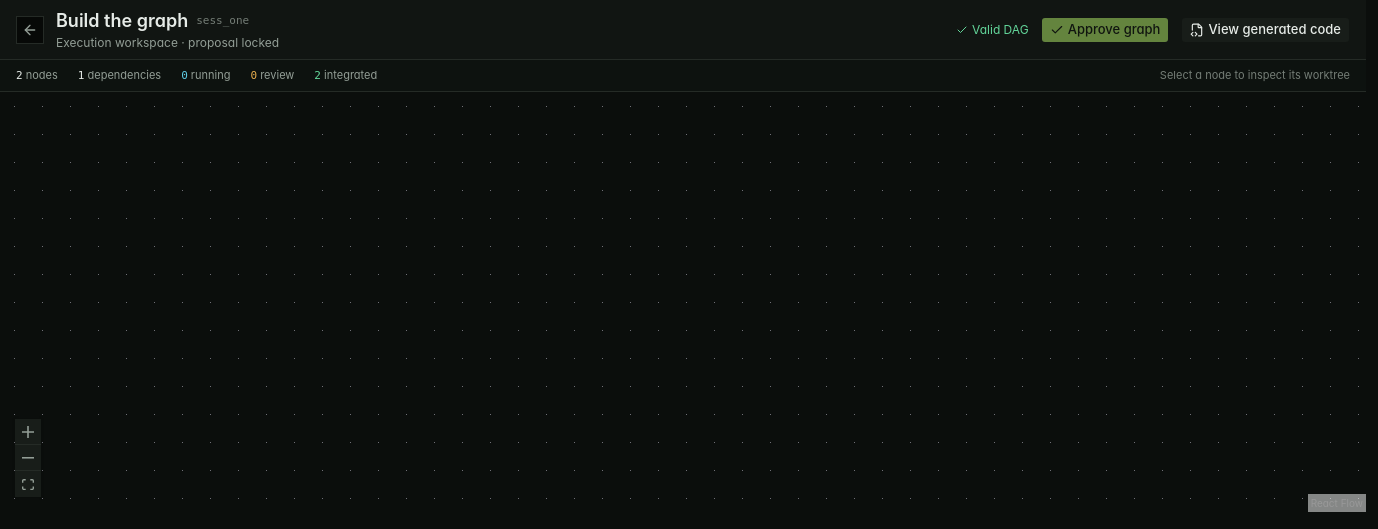
Scenario: editable graph workspace › shows the aggregate generated result for a completed graph
Click the button "View generated code" at (1266, 30), box left=1181, top=17, right=1350, bottom=43
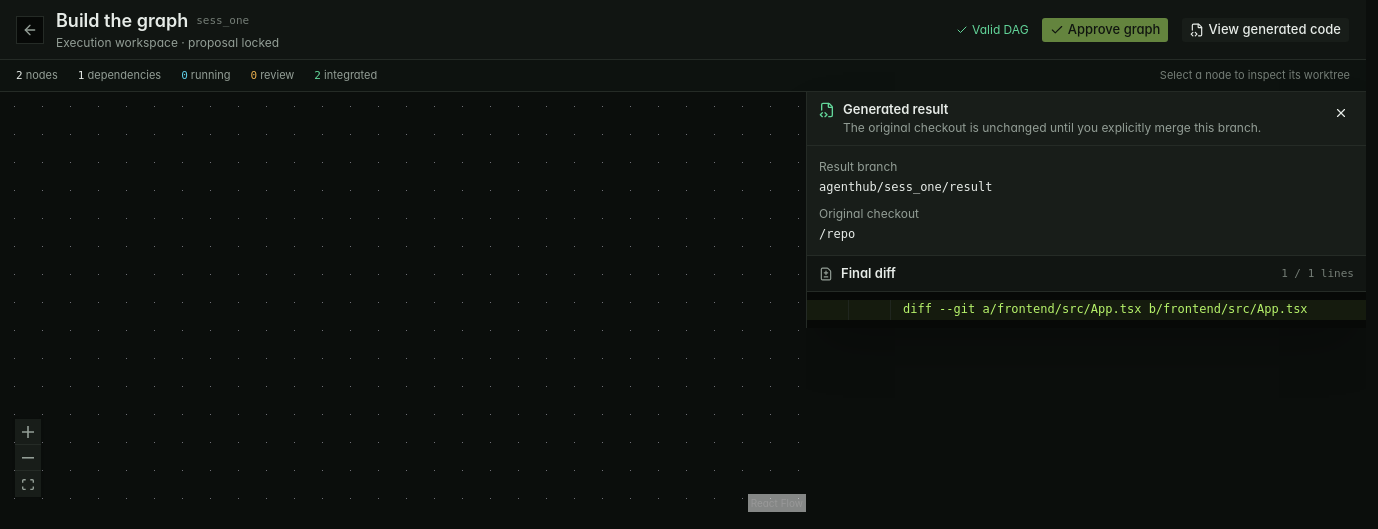
Result: the heading "Generated result" is shown at left=843, top=102, right=948, bottom=118
Result: the text "agenthub/sess_one/result" is shown at left=819, top=180, right=992, bottom=194
Result: the text "diff --git a/frontend/src/App.tsx b/frontend/src/App.tsx" is shown at left=891, top=300, right=1366, bottom=320
